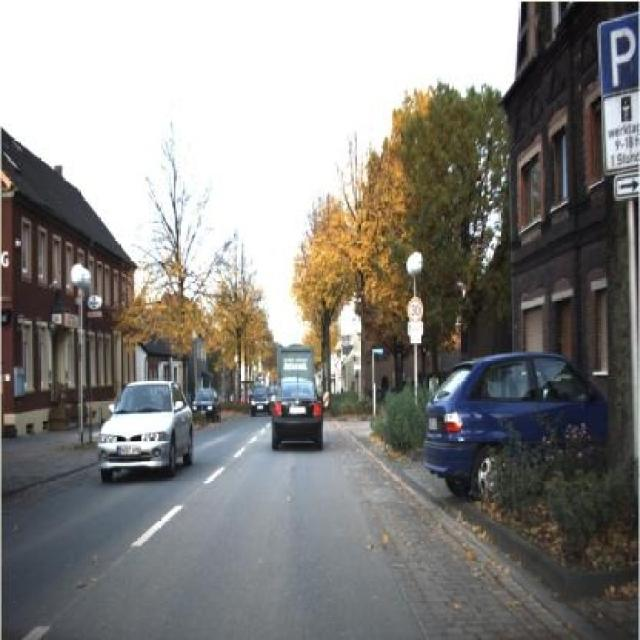forb_speed_over_30: (407, 296, 422, 324)
